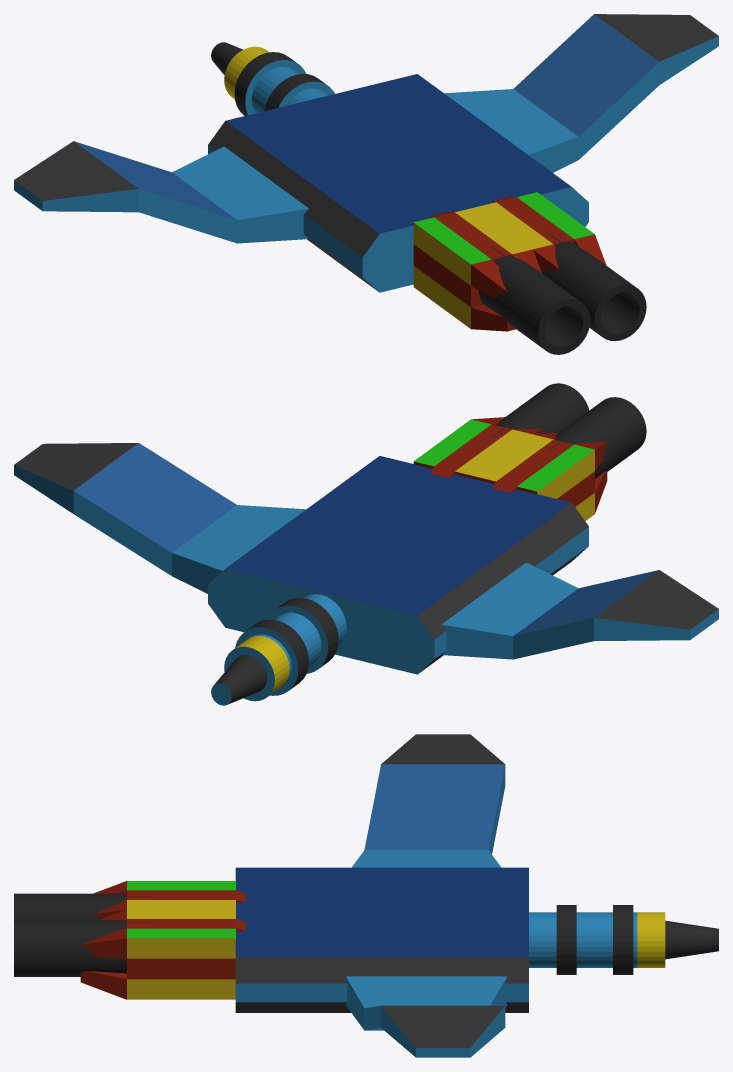
File: player.glb
The picture shows the model from 3 angles, top to bottom: view 1: azimuth 30°, elevation 25°; view 2: azimuth 150°, elevation 25°; view 3: azimuth 270°, elevation 25°; orthographic projection. The views are drawn at different scales.
Parts seen in each view (by area): view 1: Body, Wings, Engine, Jets, Weapon; view 2: Body, Wings, Engine, Weapon, Jets; view 3: Body, Wings, Engine, Weapon, Jets.
Part boxes in pixels (<box>): Body: <box>208,74,588,292</box>; Wings: <box>14,14,718,243</box>; Engine: <box>413,192,606,331</box>; Jets: <box>478,232,646,354</box>; Weapon: <box>211,42,334,115</box>; Body: <box>208,456,588,674</box>; Wings: <box>14,443,718,659</box>; Engine: <box>413,417,607,520</box>; Weapon: <box>211,594,346,705</box>; Jets: <box>491,383,646,478</box>; Body: <box>235,867,528,1012</box>; Wings: <box>346,734,506,1057</box>; Engine: <box>80,881,245,999</box>; Weapon: <box>529,905,718,974</box>; Jets: <box>14,893,151,976</box>.
Bounding box in the file's own units: 13.58 × 1.76 × 12.91.
Materials: 1 (1 with a texture image).
